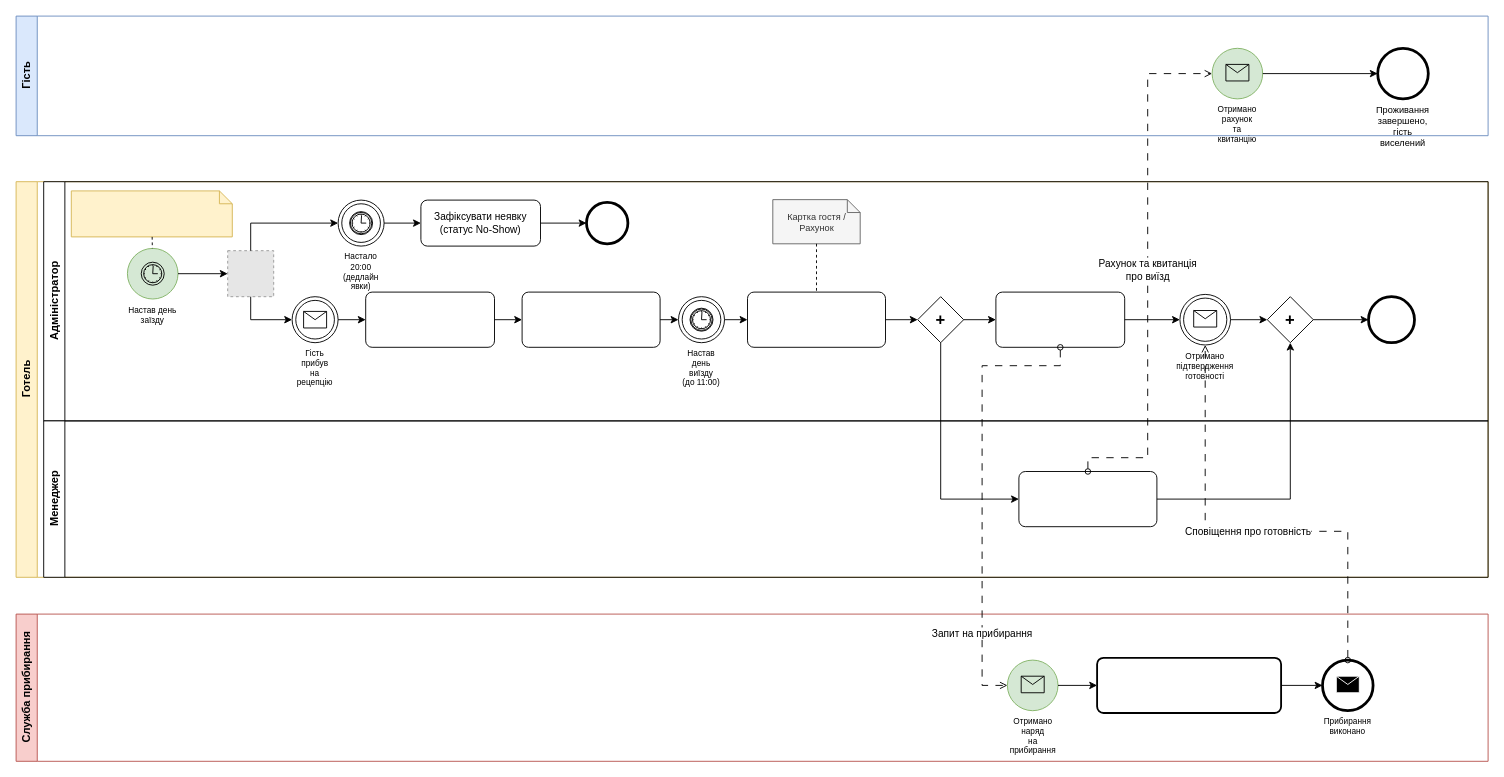
The diagram is 1504 pixels wide and 777 high, and some of its shapes have lost their labels. Grey dashed boxes stand in for pictures. Each missing label, with the centre of its shape:
[ Розрахунковий час заїзду — після 15:00, дедлайн явки — 20:00 ]: point (151, 213)
Видати ключ та встановити статус "Заселено": point (590, 319)
Закрити рахунок і статус бронювання: point (1087, 499)
Зафіксовано No-Show: point (607, 223)
Знайти бронювання та перевірити документи: point (429, 319)
Номер переведено в "Доступний": point (1391, 319)
Перевірити стан номера та платні послуги: point (816, 319)
Передати запит на прибирання: point (1060, 319)
Прибирання та дезінфекція номера [+]: point (1189, 684)
